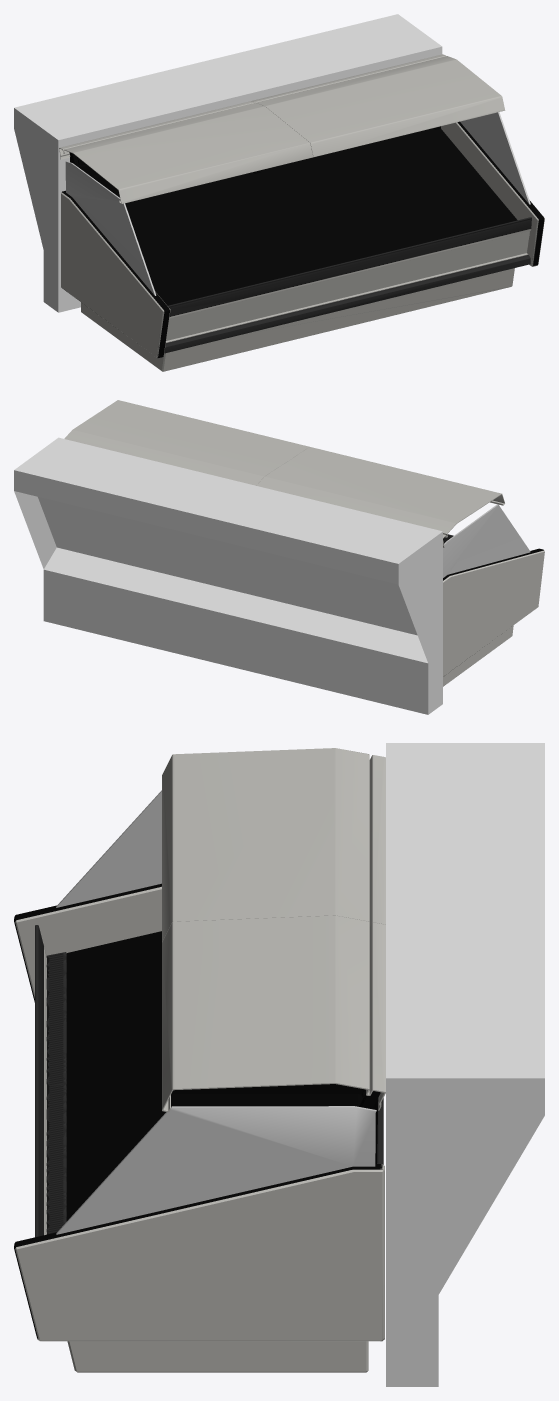
The model's file is frigobanco salumi.fbx.
3 views of the same model, one above another, from view 1: azimuth 30°, elevation 25°; view 2: azimuth 150°, elevation 25°; view 3: azimuth 270°, elevation 25° (orthographic). The views are drawn at different scales.
Visible parts, largest first — view 1: AM216_34_fridge_base_01_1, Cube, vetri; view 2: Cube, AM216_34_fridge_base_01_1, vetri; view 3: AM216_34_fridge_base_01_1, Cube, vetri.
Boxes of the visible parts, x1,y1,x2,y2 form: AM216_34_fridge_base_01_1: (59,54,544,371); Cube: (14,14,442,312); vetri: (65,112,530,295); Cube: (14,437,442,714); AM216_34_fridge_base_01_1: (64,400,544,686); vetri: (443,504,530,577); AM216_34_fridge_base_01_1: (14,748,385,1372); Cube: (386,743,544,1386); vetri: (56,790,376,1234).
Size of the model in its own units: 249 by 107 by 167.
